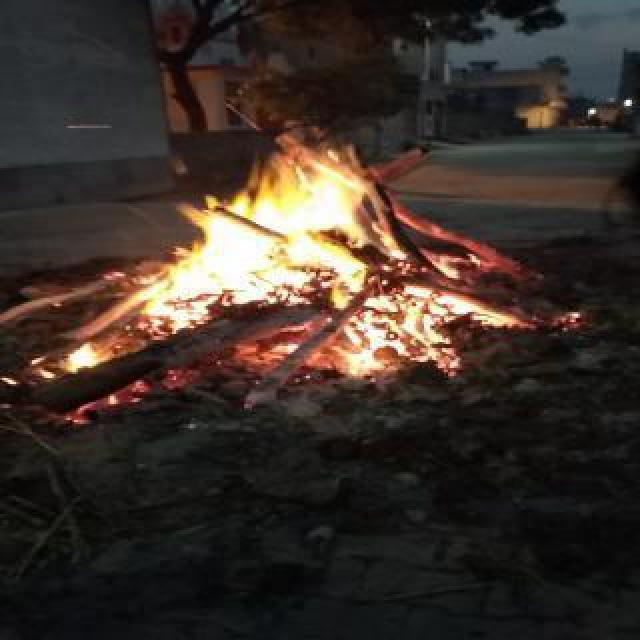Fire: (112, 118, 520, 366)
